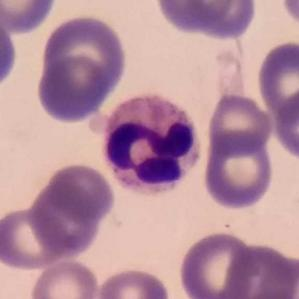Neutrophil: (99, 89, 206, 201)
RBC: (35, 11, 130, 121), (27, 177, 105, 260), (200, 134, 276, 211), (177, 228, 258, 299), (42, 161, 117, 223), (220, 241, 299, 299), (204, 92, 275, 156), (1, 205, 68, 272), (254, 38, 299, 119), (28, 257, 101, 299), (156, 0, 236, 36), (188, 0, 260, 39), (94, 266, 172, 299), (0, 0, 62, 35), (271, 87, 299, 163), (0, 7, 19, 93), (278, 0, 298, 31)
